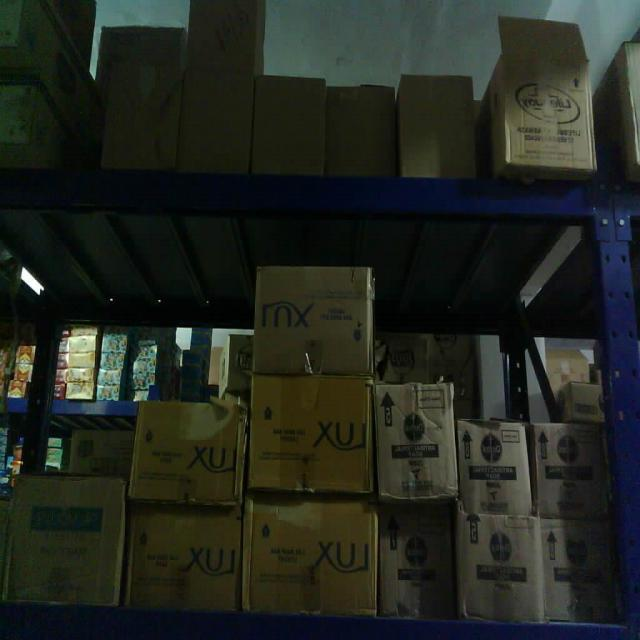cardboxes: (1, 471, 130, 609), (238, 496, 380, 617), (243, 371, 376, 492), (250, 262, 376, 378), (120, 504, 246, 612), (130, 399, 248, 511), (504, 31, 598, 170), (371, 378, 460, 502), (394, 70, 476, 181), (458, 516, 540, 624), (246, 74, 325, 181), (539, 514, 617, 620), (532, 416, 606, 526), (376, 514, 452, 619), (457, 418, 538, 516), (319, 82, 396, 176)
